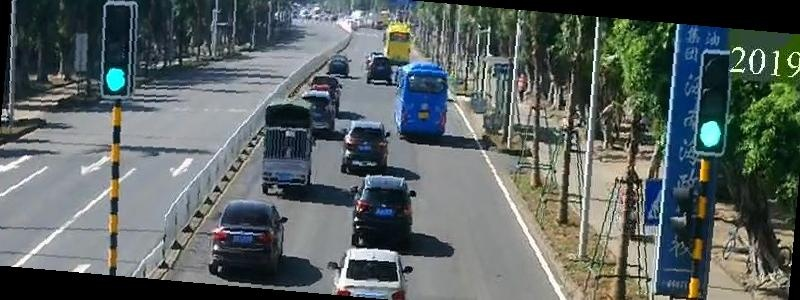green: (696, 120, 727, 149), (105, 65, 129, 97)
